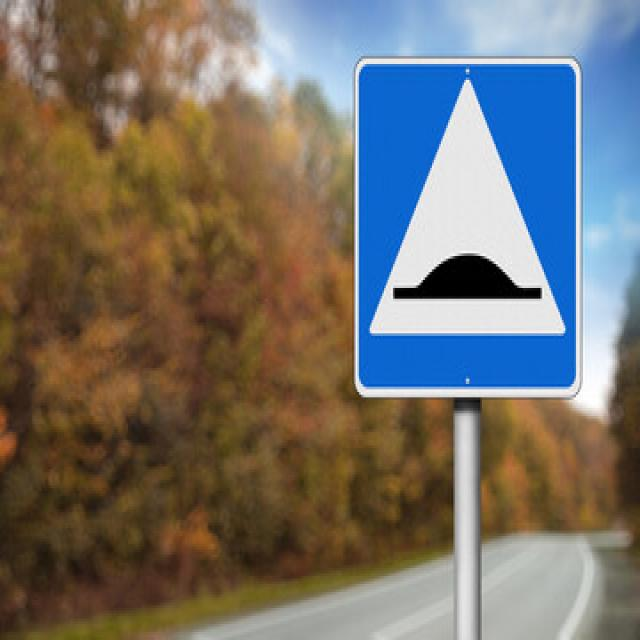hump: (356, 52, 586, 404)
